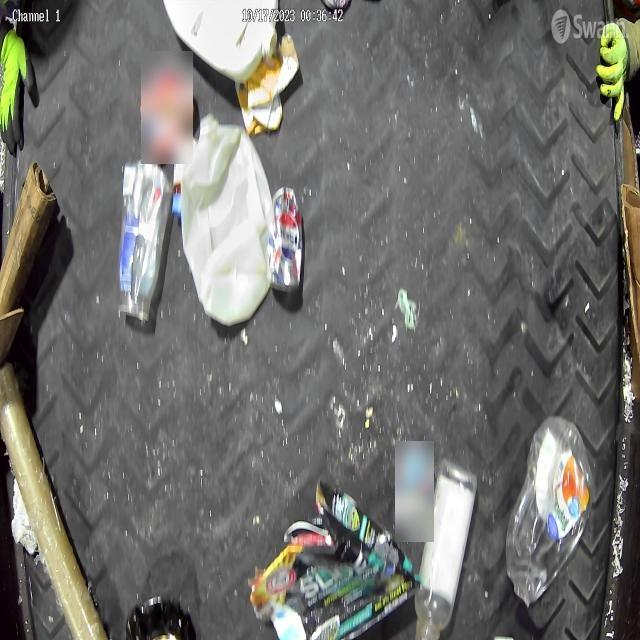milk_jug: (182, 114, 274, 327)
non_white_jug: (505, 415, 594, 607)
plastic_bottle: (414, 460, 477, 640)
